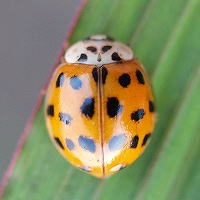Red: (44, 33, 156, 179)
